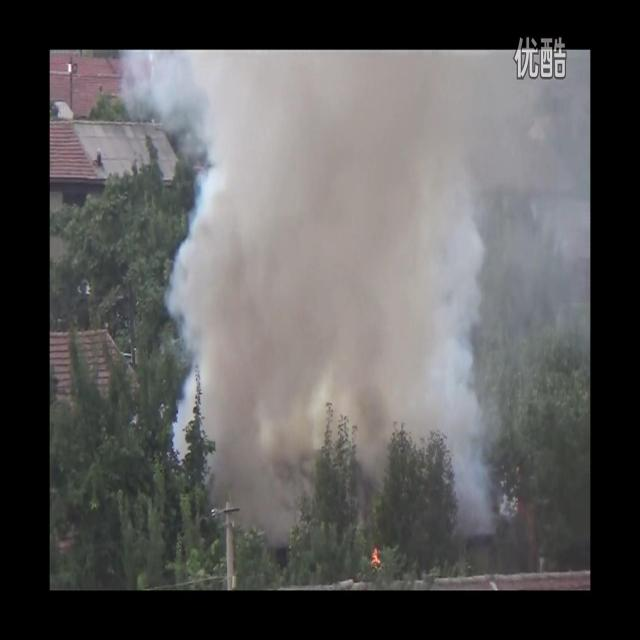fire: (370, 544, 381, 566)
smoke: (181, 62, 495, 480), (127, 53, 207, 133)
